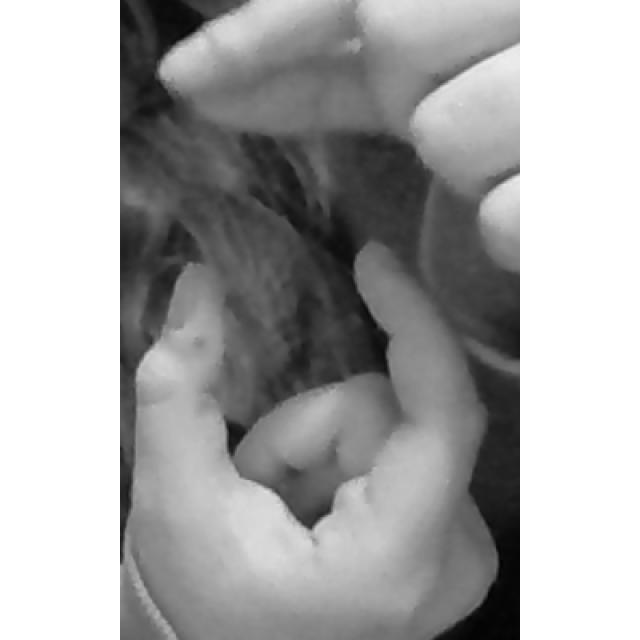U--: (132, 0, 520, 640)
